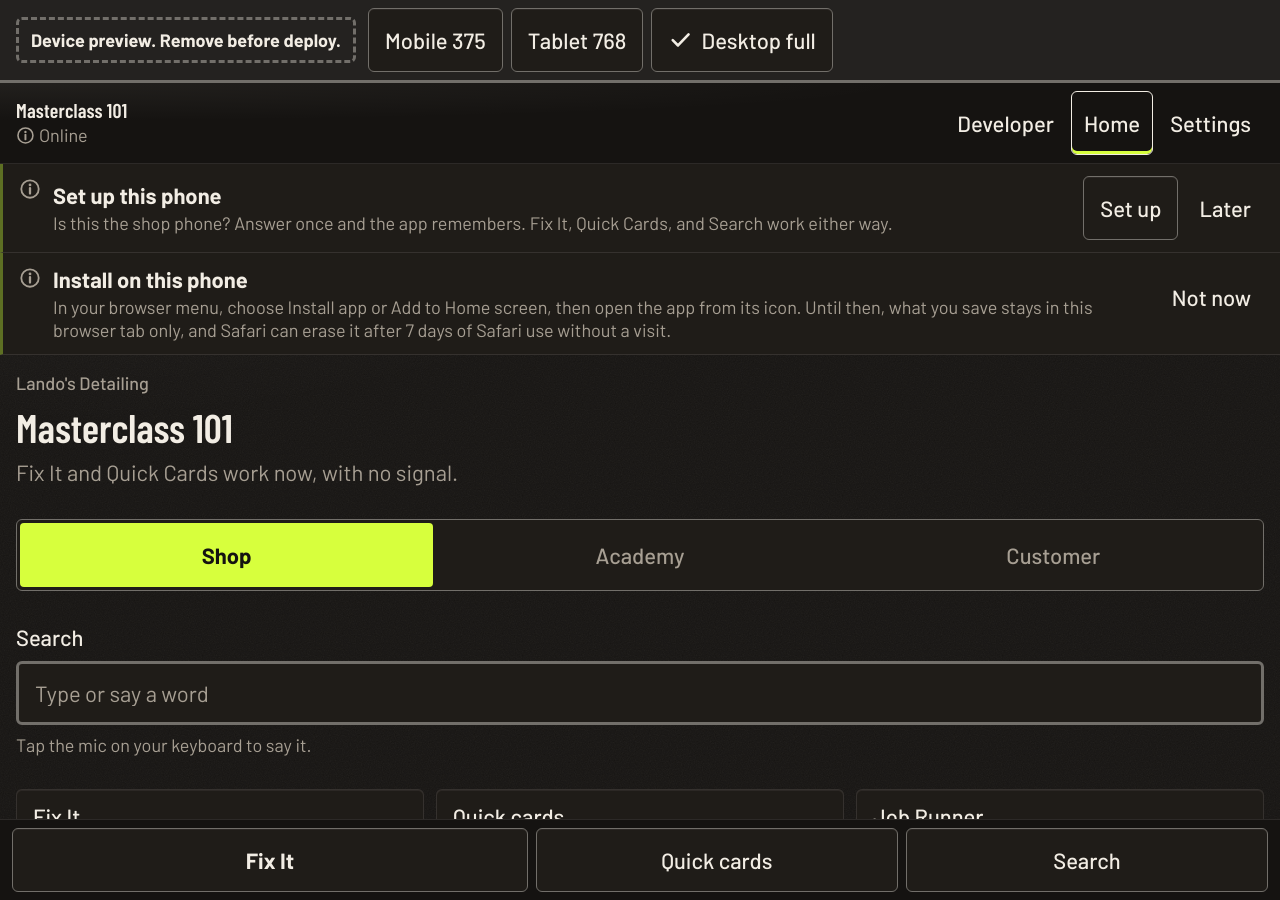
Test: first run (D12) and the notices › a new install opens straight into Home with the setup banner, which closes for the session
This screenshot has width=1280, height=900.
Expected: the text "Set up this phone" is shown, [53,182,222,208]
Expected: the element "Masterclass 101" is shown, [16,372,458,485]
Click the button "Later" at (1225, 208), box [1186,176,1264,240]
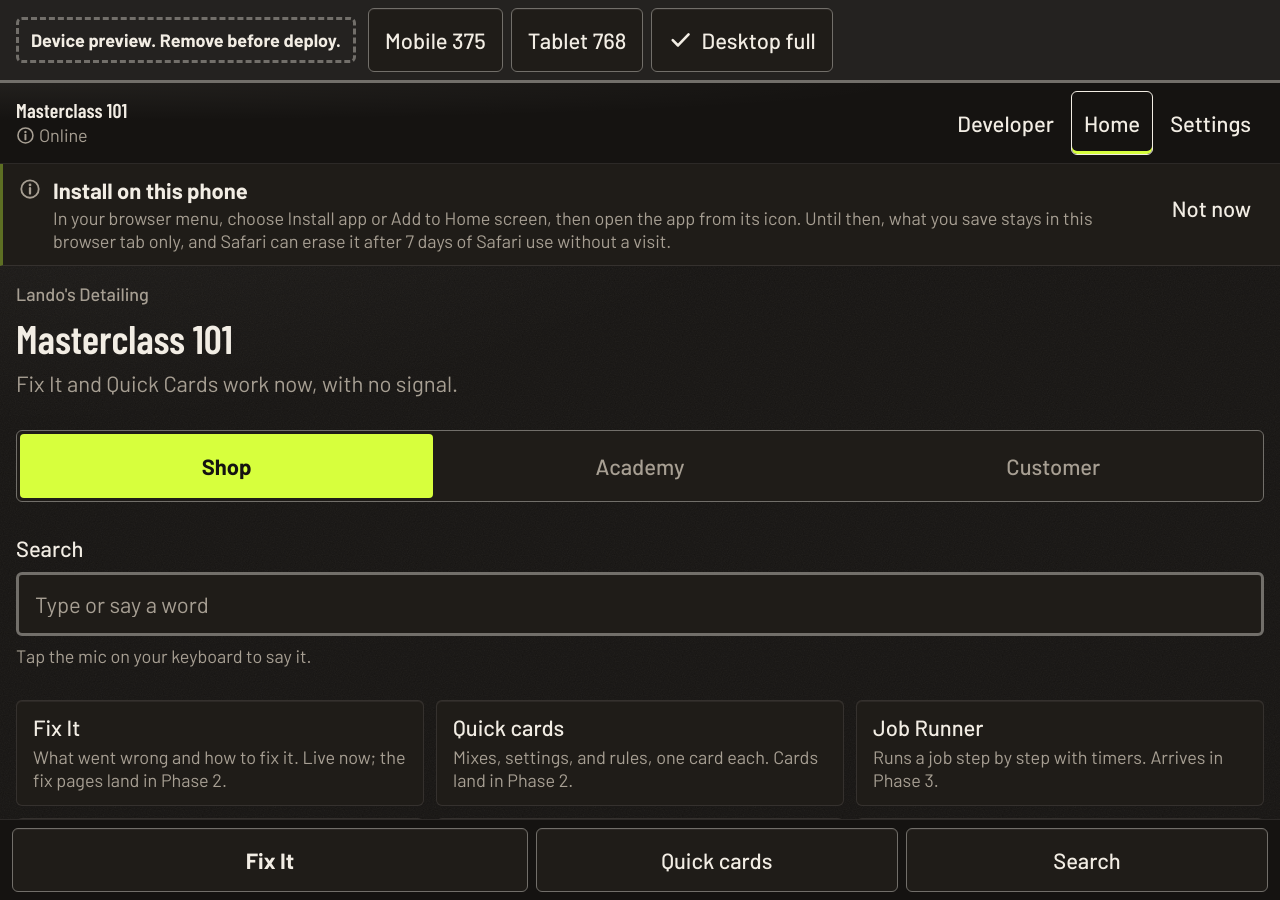
Now the text "Set up this phone" is gone
